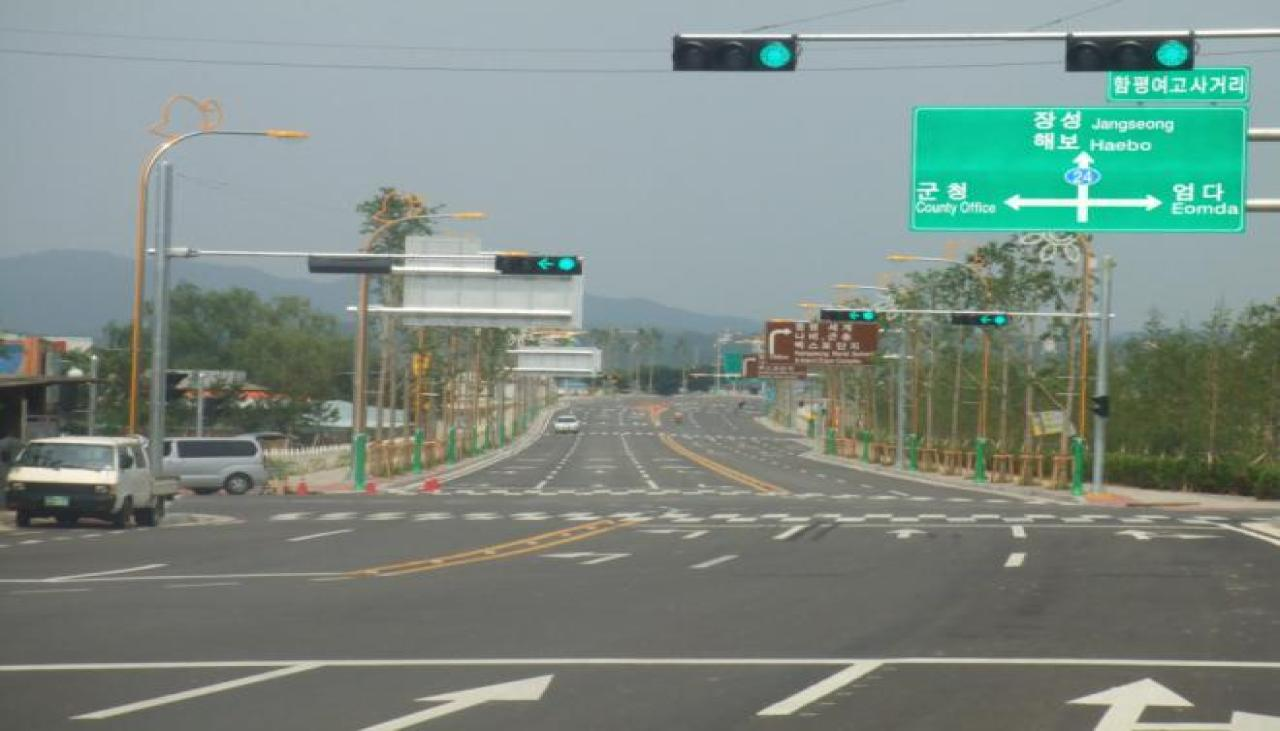Green Light: (755, 35, 796, 70), (1155, 34, 1190, 68), (558, 254, 580, 276), (993, 313, 1008, 327), (863, 309, 876, 323)
Left turn: (530, 252, 557, 276), (977, 312, 993, 326), (848, 309, 862, 321)
